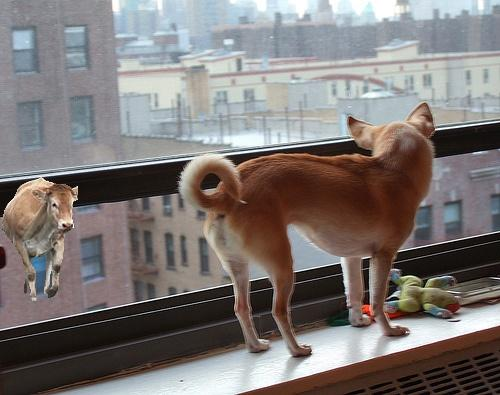tampered: (3, 178, 78, 301)
